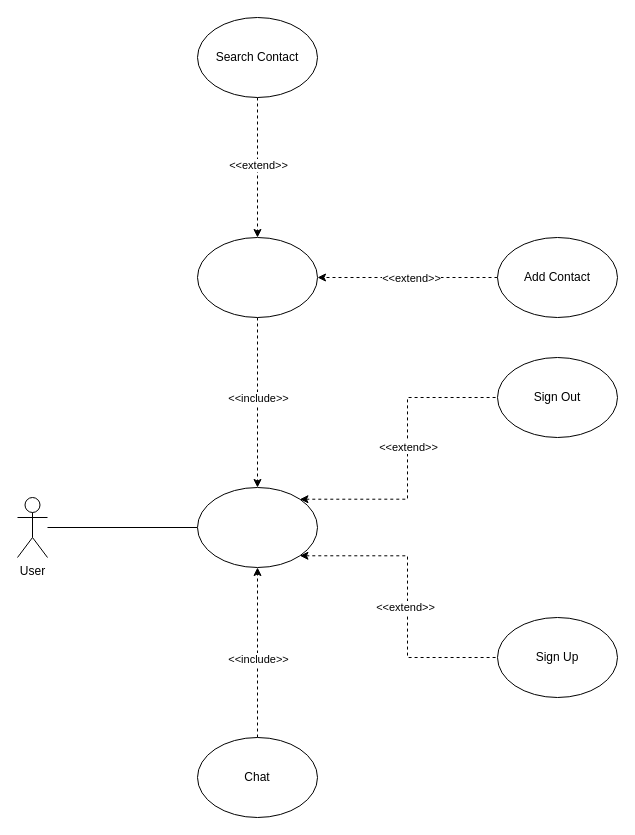
Some shapes in this 635 by 835 pixel diagram are drawn without their labels. The centre of each missing label's shape, as x and y in pixels:
"Sign In" goes at pixel 257 527.
"View Contact" goes at pixel 257 277.
